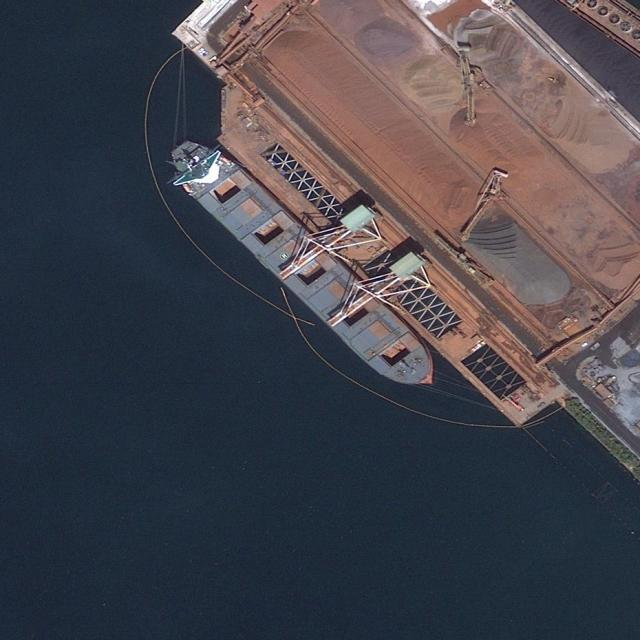Cargo: (156, 124, 450, 412)
